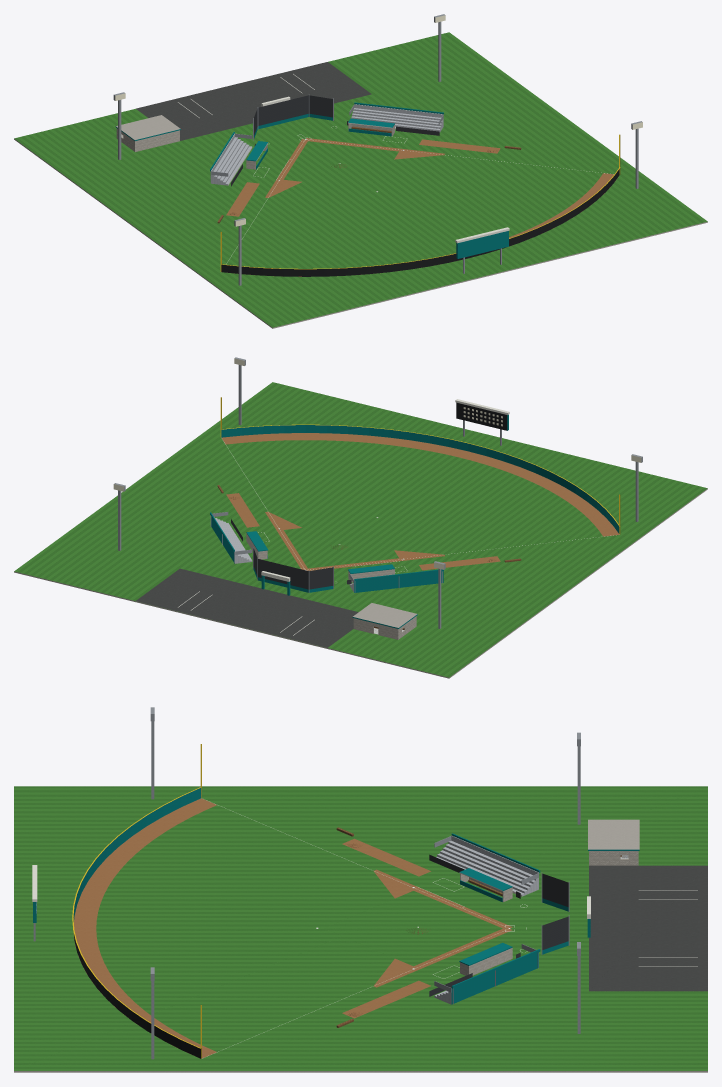
File: ballpark_3.glb
3 renders of one model, top to bottom at view 1: azimuth 30°, elevation 25°; view 2: azimuth 150°, elevation 25°; view 3: azimuth 270°, elevation 25°, orthographic. The views are drawn at different scales.
Parts seen in each view (by area): view 1: ballpark_3; view 2: ballpark_3; view 3: ballpark_3.
Boxes of the visible parts, x1,y1,x2,y2 form: ballpark_3: (14, 14, 707, 328); ballpark_3: (14, 357, 707, 678); ballpark_3: (14, 707, 707, 1072).
Bounding box in the file's own units: 136 × 19.9 × 140.
17 materials, 17 textured.
